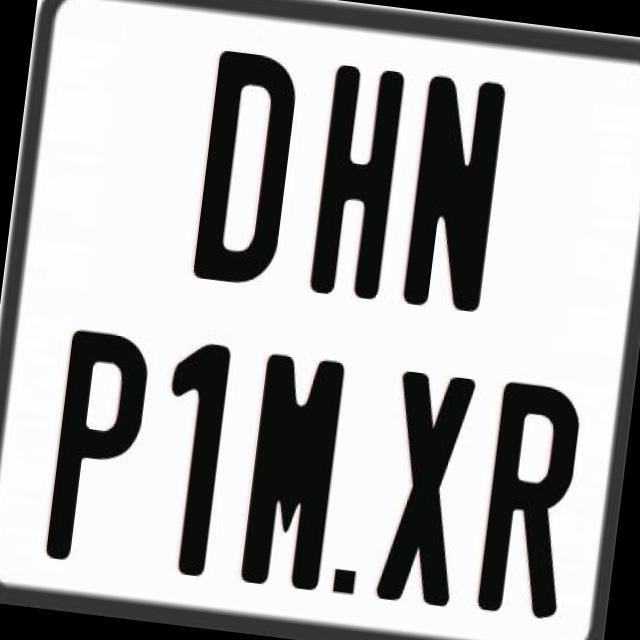1: (146, 334, 232, 574)
D: (188, 46, 300, 287)
H: (308, 62, 406, 302)
M: (236, 352, 342, 593)
N: (396, 74, 504, 316)
P: (42, 327, 152, 567)
R: (474, 378, 580, 616)
X: (375, 368, 481, 608)
